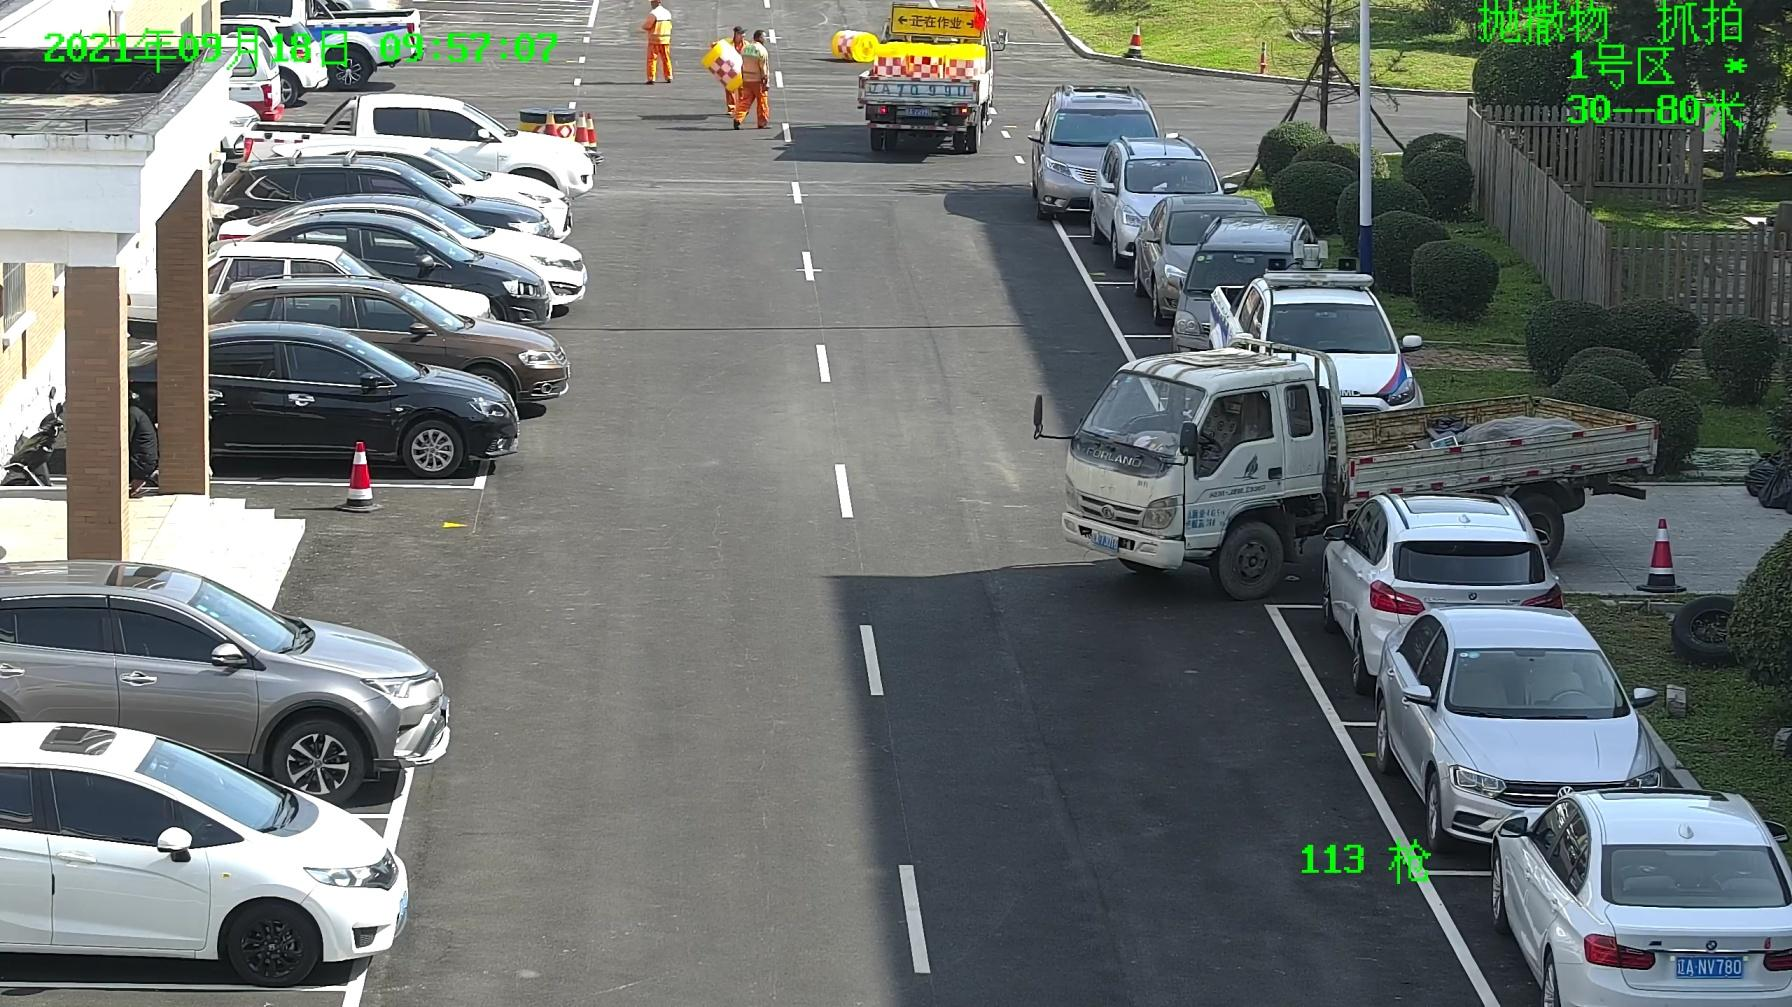cone_barrel: (702, 39, 743, 87), (830, 30, 876, 64), (943, 43, 978, 81), (876, 43, 910, 78), (910, 43, 940, 78)
